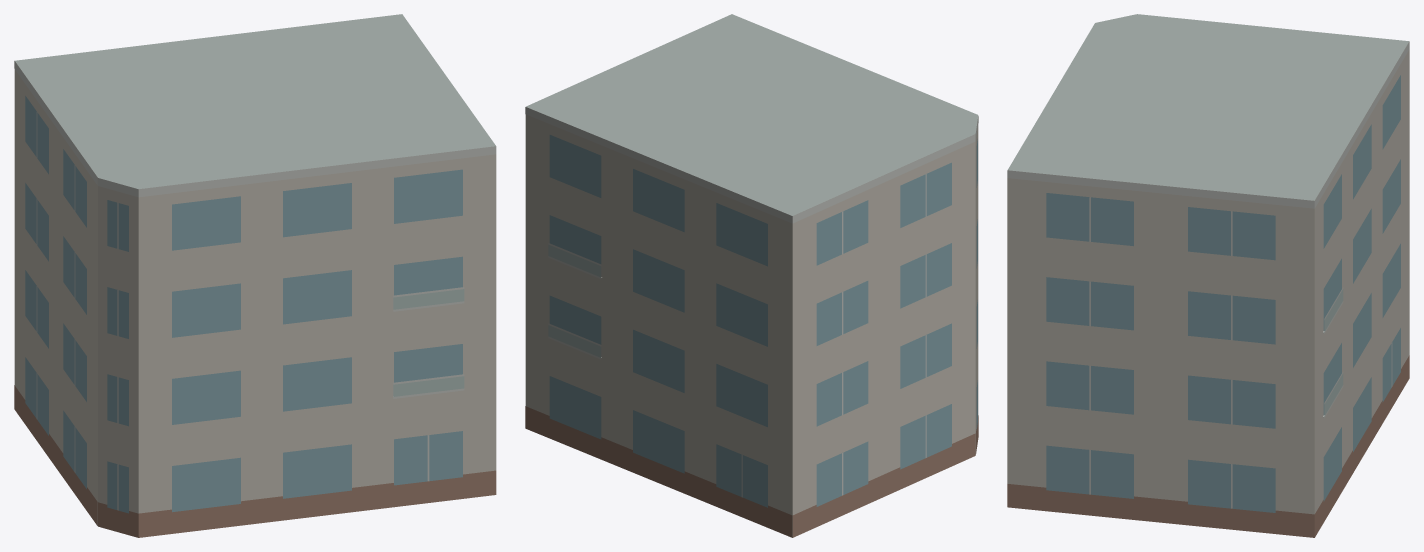
Rendered from survey-upis-33046186.glb.
3 views of the same model, side by side, from view 1: azimuth 30°, elevation 25°; view 2: azimuth 150°, elevation 25°; view 3: azimuth 270°, elevation 25° (orthographic). The views are drawn at different scales.
Parts seen in each view (by area): view 1: survey-upis-33046186.tmp; view 2: survey-upis-33046186.tmp; view 3: survey-upis-33046186.tmp.
Part boxes in pixels (x1,y1,x2,y2): survey-upis-33046186.tmp: [14, 14, 496, 537]; survey-upis-33046186.tmp: [525, 14, 978, 537]; survey-upis-33046186.tmp: [1007, 14, 1409, 537].
Bounding box in the file's own units: 12.49 × 10.5 × 11.36.
